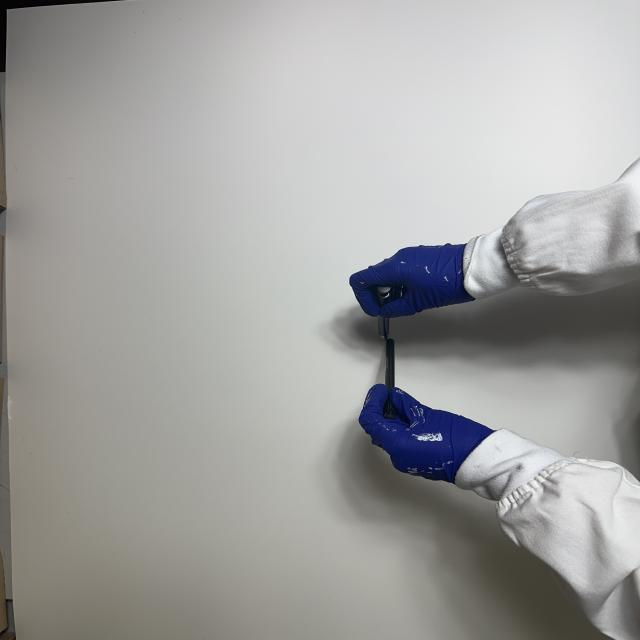gloves_contaminated: (360, 385, 493, 482), (350, 244, 474, 318)
